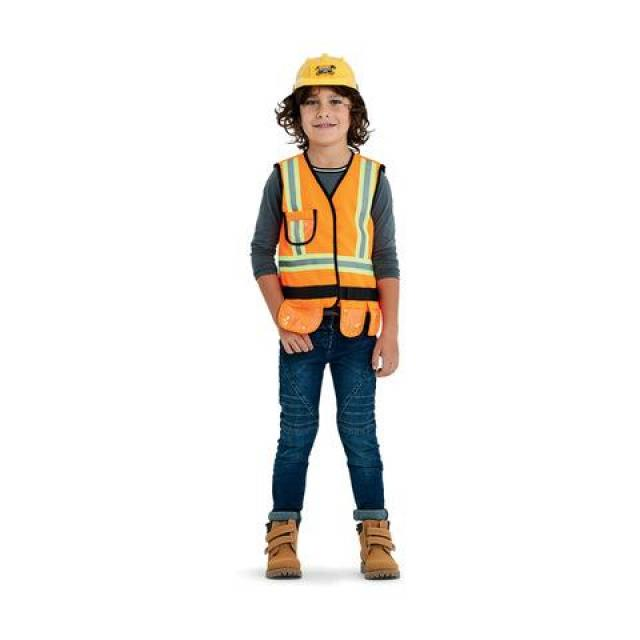Reflective-Jacket: (266, 149, 390, 343)
Safety-Helmet: (286, 47, 362, 101)
